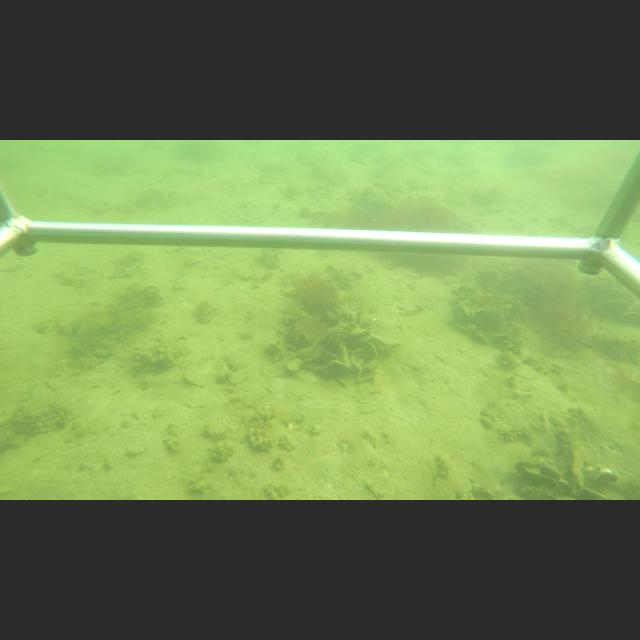Oyster-Closed: (352, 340, 378, 366), (325, 360, 352, 378), (340, 340, 354, 369)
